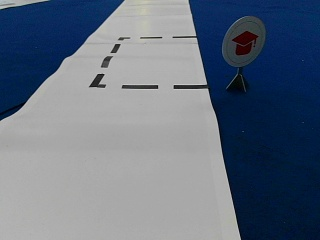school: (221, 16, 264, 66)
